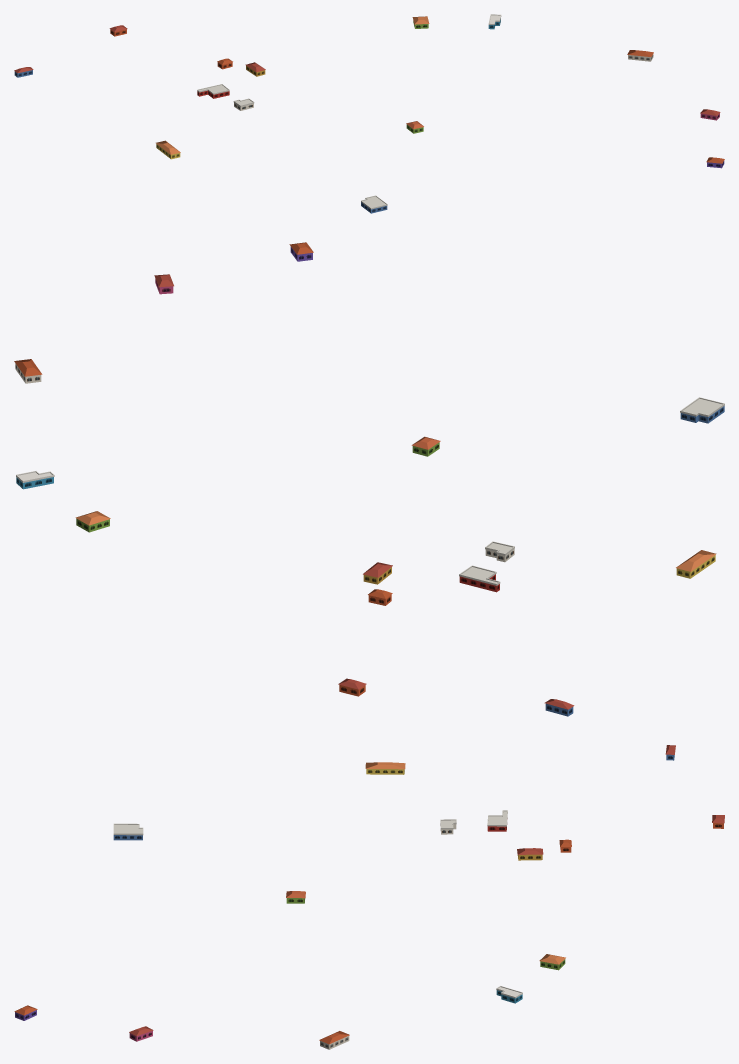
Rendered from msb_oranjestad_m16_2.glb.
3 renders of one model, top to bottom at view 1: azimuth 30°, elevation 25°; view 2: azimuth 150°, elevation 25°; view 3: azimuth 270°, elevation 25°, orthographic. The views are drawn at different scales.
Visible parts, largest first — view 1: msb_oranjestad_m16_2_lod0; view 2: msb_oranjestad_m16_2_lod0; view 3: msb_oranjestad_m16_2_lod0.
Part boxes in pixels (bbox=[...]): msb_oranjestad_m16_2_lod0: bbox=[14, 14, 724, 213]; msb_oranjestad_m16_2_lod0: bbox=[14, 242, 724, 716]; msb_oranjestad_m16_2_lod0: bbox=[14, 745, 724, 1049].
Size of what is drawn, in the model's own units: 378 by 8.59 by 380.
Materials: 3 (1 with a texture image).
